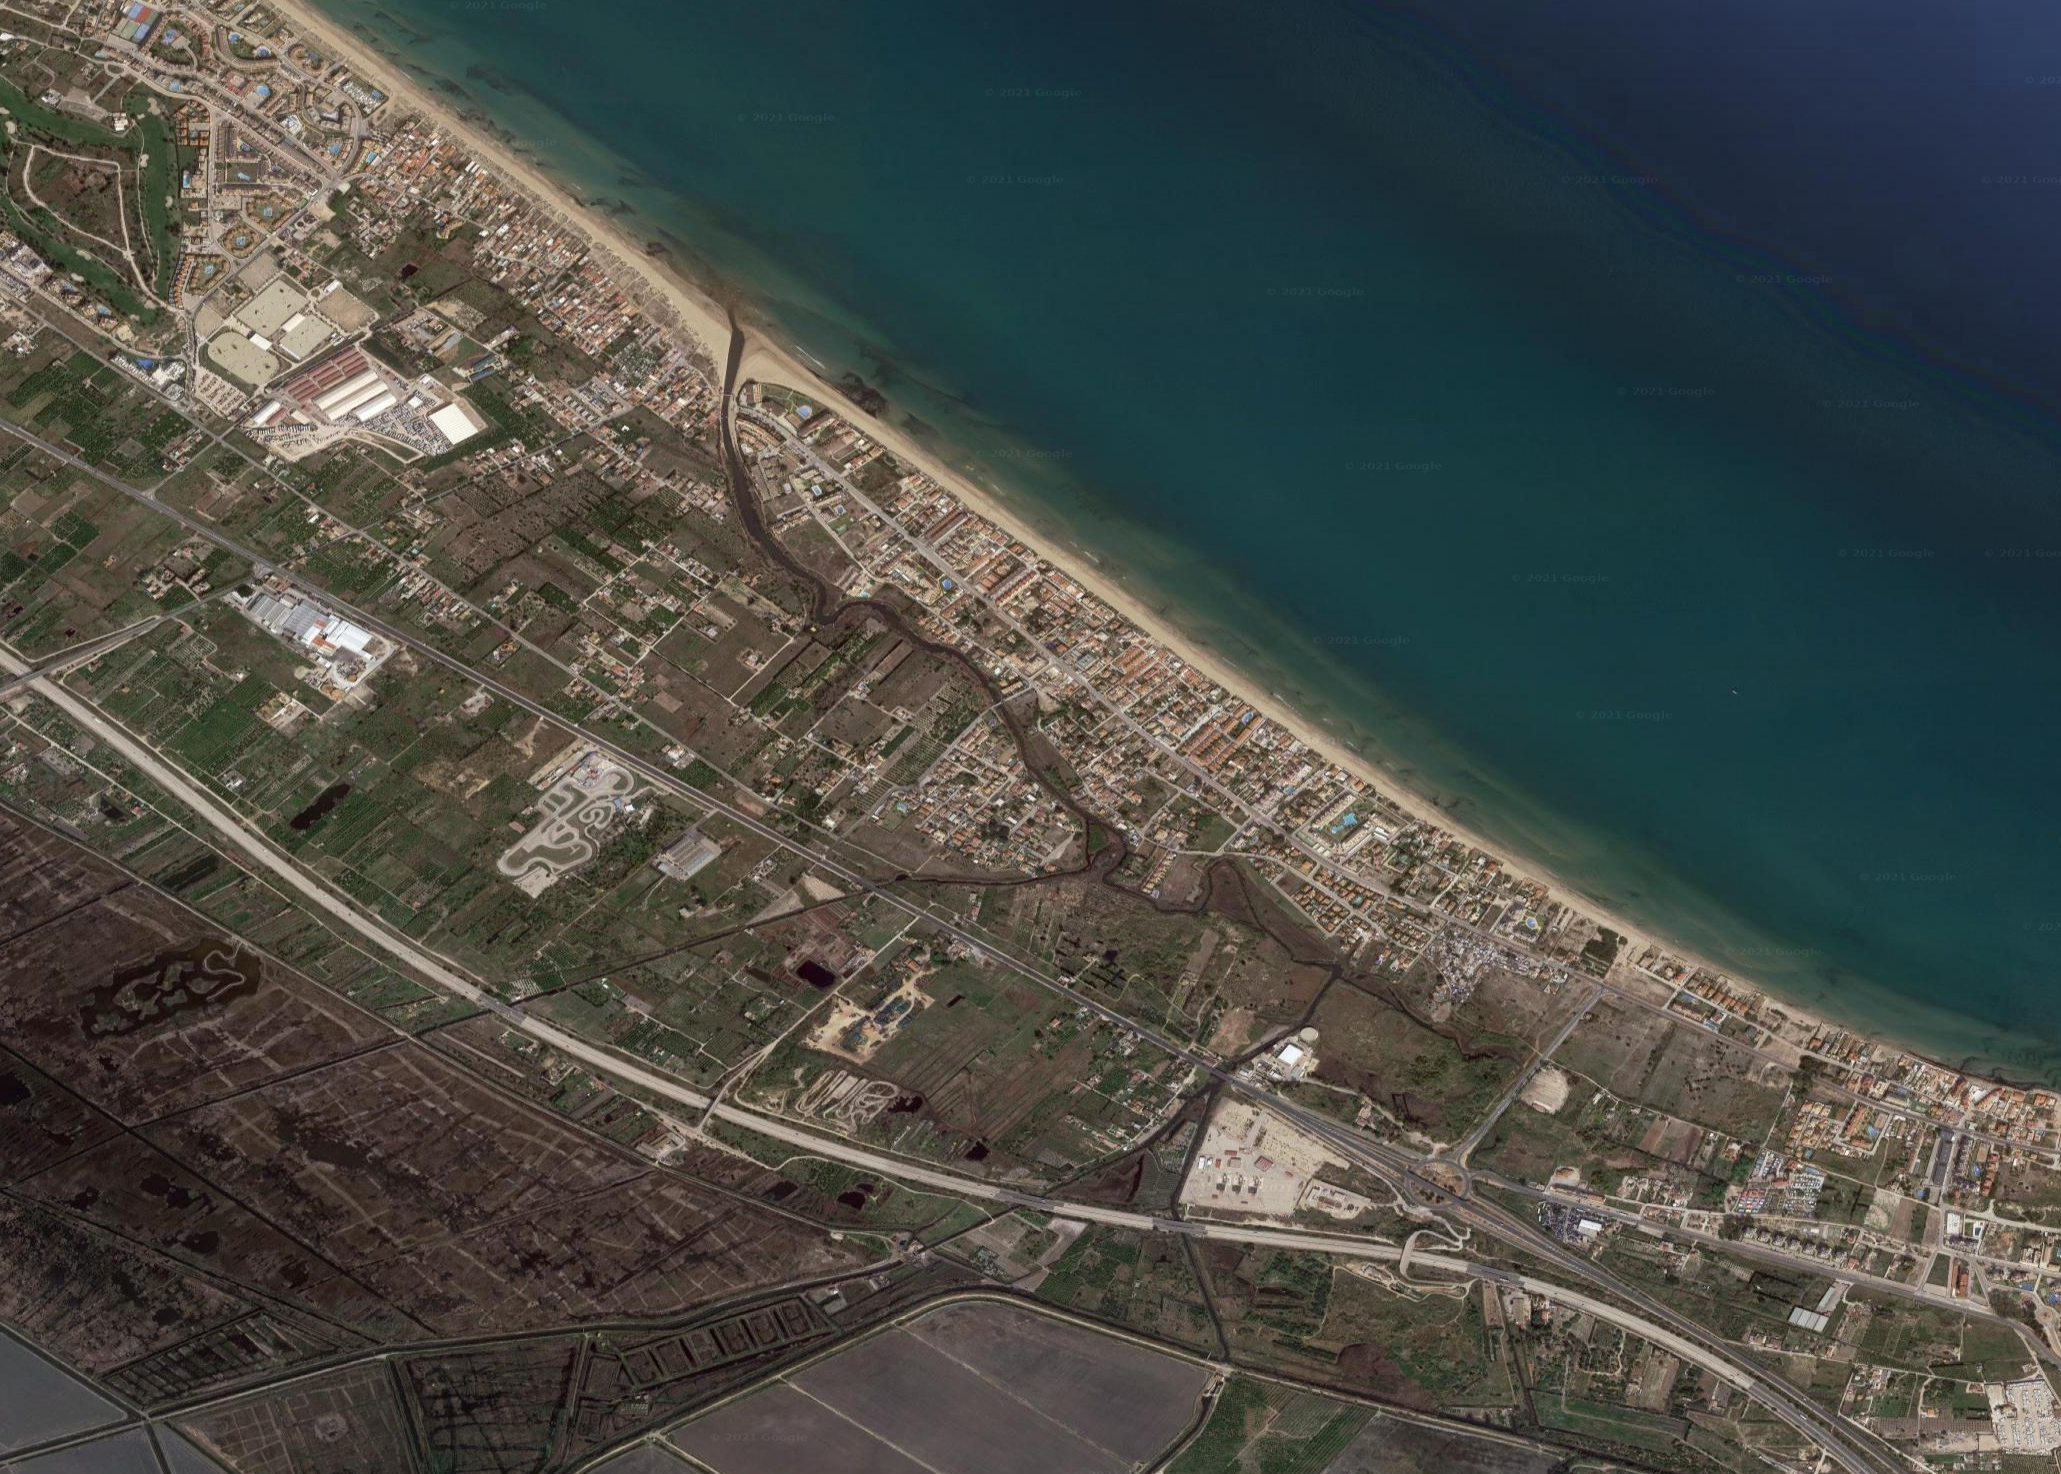bridge: (19, 649, 49, 696), (703, 1085, 724, 1125)
industrial: (266, 348, 482, 482), (242, 589, 375, 688)
motorway: (434, 968, 739, 1134), (1633, 1303, 1884, 1474), (203, 796, 435, 965), (742, 1101, 1062, 1220), (2, 627, 204, 799), (1067, 1188, 1409, 1279), (1105, 1003, 1334, 1129), (1319, 1110, 1547, 1236), (439, 652, 659, 769), (219, 534, 437, 651), (651, 770, 869, 887), (874, 890, 1093, 1007), (2, 416, 219, 531), (1412, 1243, 1627, 1321)
